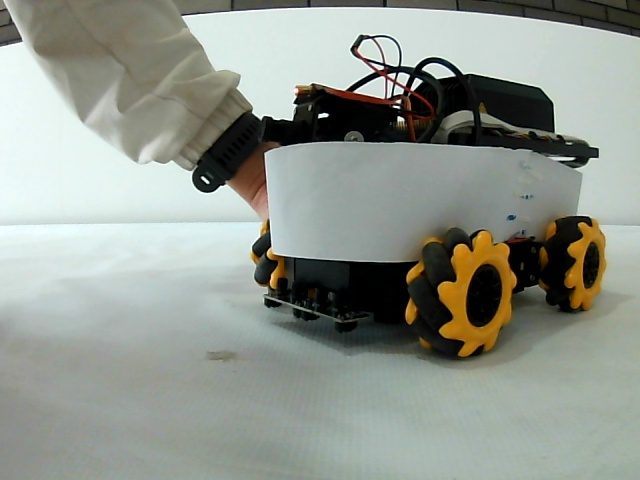car: (245, 53, 604, 363)
paper: (264, 152, 578, 218)
